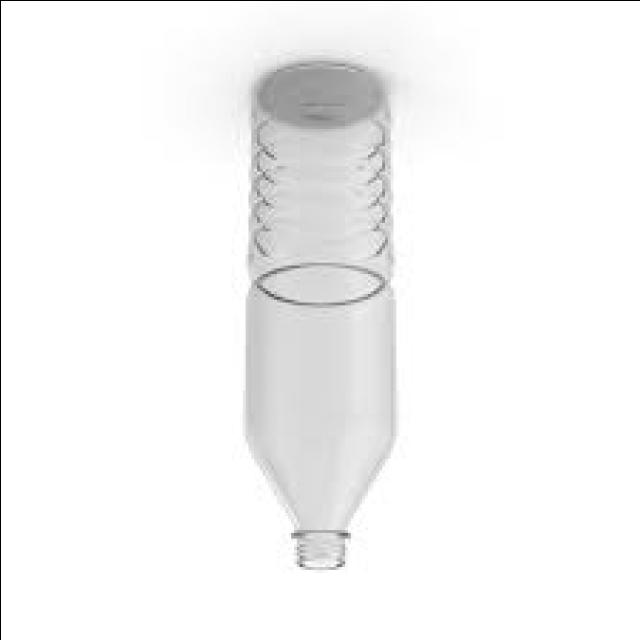plastic cup: (245, 64, 394, 569)
